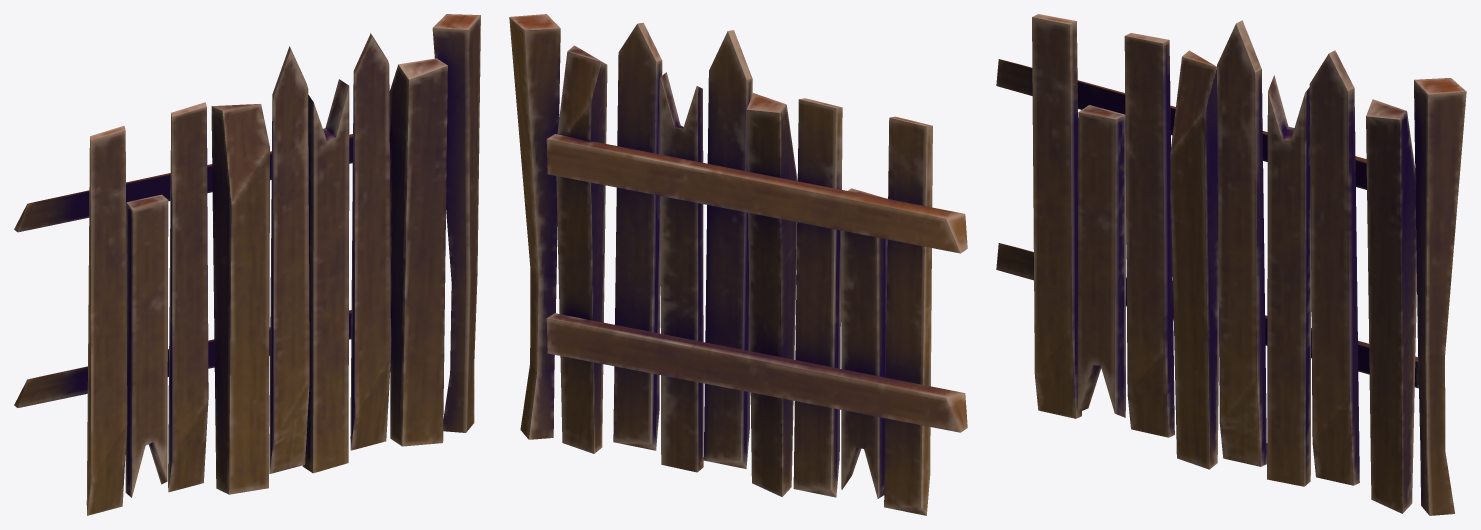
The model's file is Fence_Plank5.fbx.
The picture shows the model from 3 angles, left to right: view 1: azimuth 30°, elevation 25°; view 2: azimuth 150°, elevation 25°; view 3: azimuth 330°, elevation 25°; orthographic projection. The views are drawn at different scales.
Visible parts, largest first — view 1: EA03_Fence_Plank_Seam_01a_LOD0; view 2: EA03_Fence_Plank_Seam_01a_LOD0; view 3: EA03_Fence_Plank_Seam_01a_LOD0.
Boxes of the visible parts, <box> form: EA03_Fence_Plank_Seam_01a_LOD0: <box>14,14,480,515</box>; EA03_Fence_Plank_Seam_01a_LOD0: <box>509,14,967,515</box>; EA03_Fence_Plank_Seam_01a_LOD0: <box>996,14,1466,515</box>.
Bounding box in the file's own units: 3.09 × 0.421 × 2.81.
Materials: 1 (1 with a texture image).
